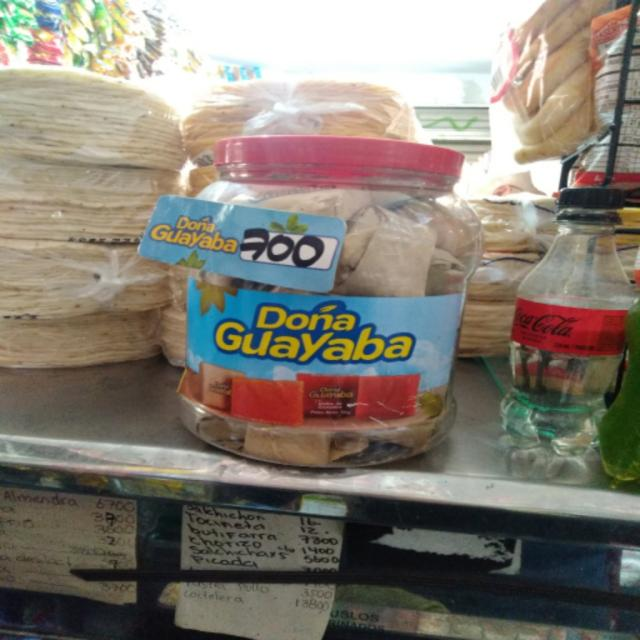Precio: (240, 227, 340, 279)
